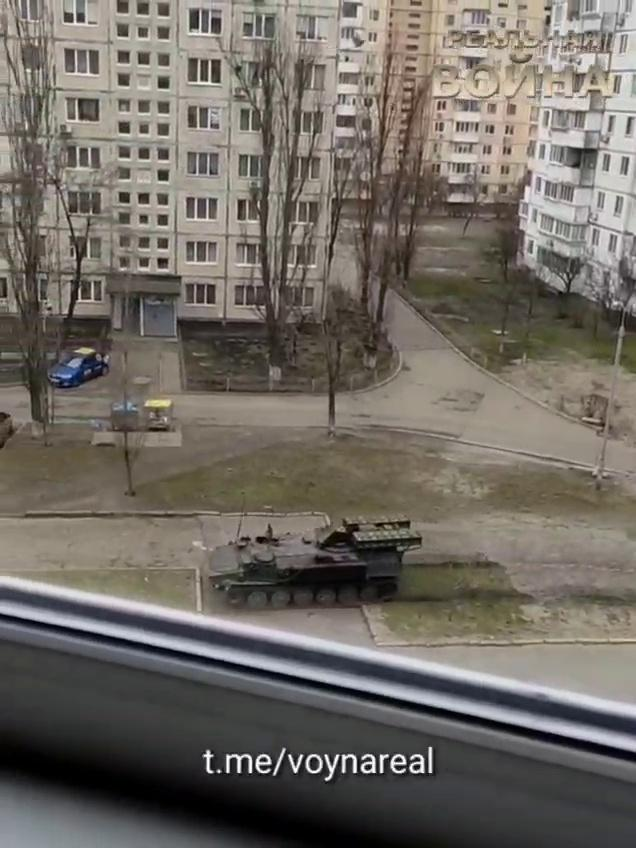car: (47, 346, 111, 393)
tank: (205, 514, 422, 610)
